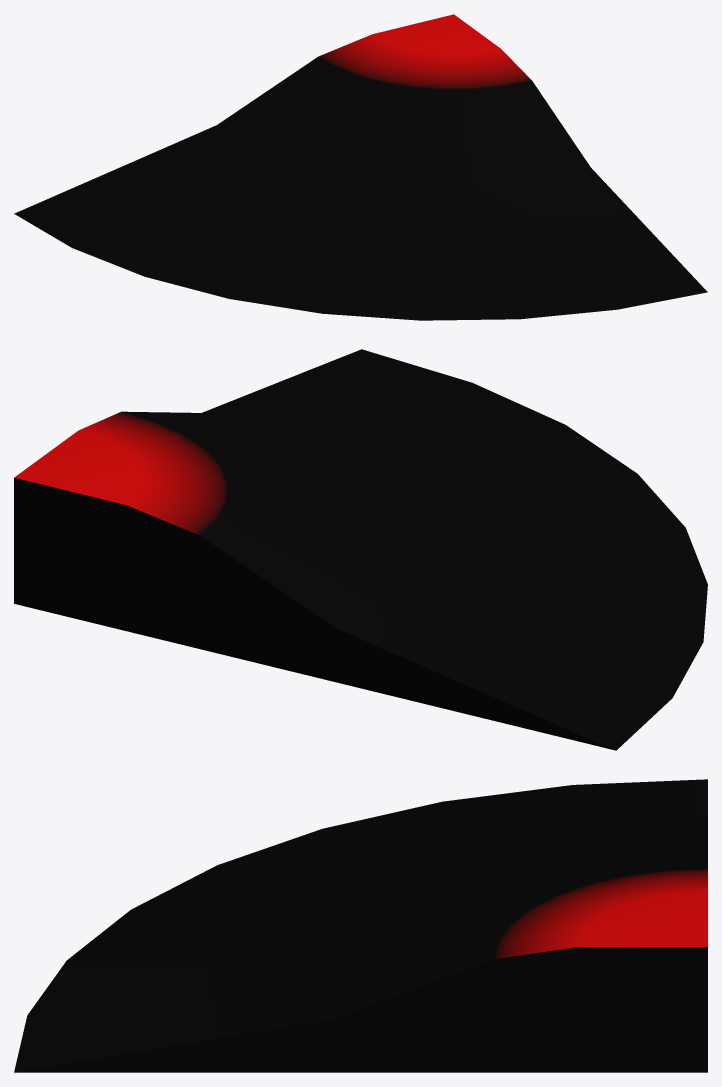
File: PlatformDeclineCornerIn_90Deg.fbx
3 views of the same model, one above another, from view 1: azimuth 30°, elevation 25°; view 2: azimuth 150°, elevation 25°; view 3: azimuth 270°, elevation 25° (orthographic). The views are drawn at different scales.
Visible parts, largest first — view 1: PlatformDeclineCornerIn_90Deg; view 2: PlatformDeclineCornerIn_90Deg; view 3: PlatformDeclineCornerIn_90Deg.
Boxes of the visible parts, bbox=[...] form: PlatformDeclineCornerIn_90Deg: bbox=[14, 14, 707, 320]; PlatformDeclineCornerIn_90Deg: bbox=[14, 349, 707, 750]; PlatformDeclineCornerIn_90Deg: bbox=[14, 779, 707, 1072].
Size of the model in its own units: 5 by 1 by 5.
